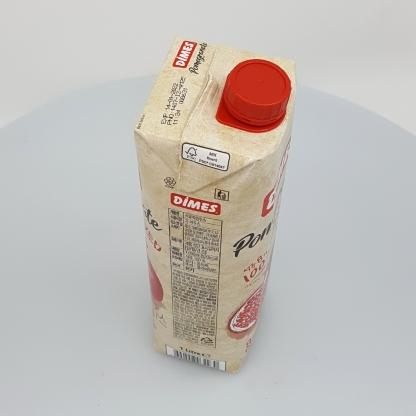DIMES------1000ML: (134, 35, 297, 373)
